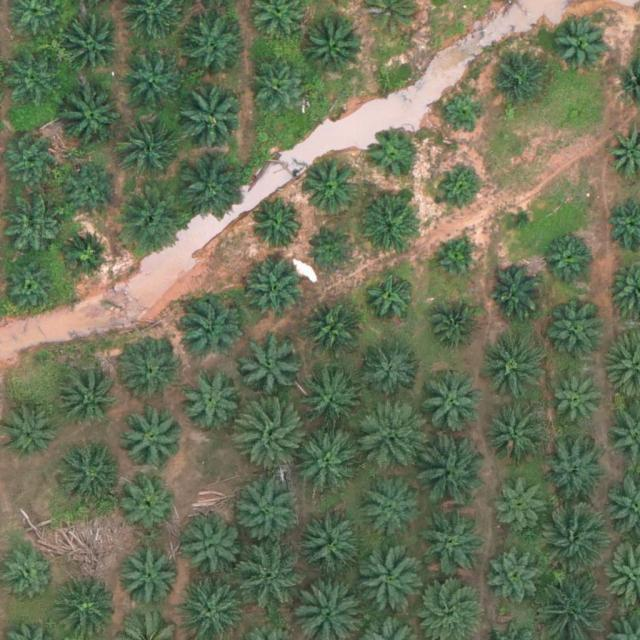Healthy: (177, 8, 248, 79), (55, 77, 125, 148), (113, 115, 183, 186), (172, 78, 243, 148), (538, 501, 608, 572), (416, 435, 486, 506), (354, 547, 425, 617), (355, 400, 425, 471), (232, 474, 302, 545), (236, 399, 306, 470), (117, 190, 187, 260), (175, 155, 245, 225), (236, 543, 306, 613), (357, 199, 420, 262), (420, 374, 483, 437), (240, 334, 303, 397), (119, 337, 182, 400), (295, 431, 358, 494), (120, 546, 183, 609), (122, 406, 185, 469), (57, 443, 120, 506), (58, 12, 120, 75), (300, 12, 362, 75), (547, 303, 609, 366), (483, 337, 545, 400), (242, 263, 305, 325), (179, 369, 242, 431), (177, 296, 239, 359), (57, 368, 119, 431), (544, 443, 606, 506), (487, 544, 550, 606), (485, 402, 547, 465), (419, 513, 482, 575), (359, 474, 421, 537), (302, 372, 364, 435), (298, 514, 360, 577), (180, 516, 242, 579), (120, 48, 182, 110), (490, 52, 552, 114), (360, 338, 422, 400), (60, 228, 115, 283), (4, 134, 59, 189), (5, 262, 60, 317), (63, 163, 118, 218), (253, 59, 308, 114), (427, 304, 482, 359), (549, 378, 604, 433), (542, 228, 597, 283), (490, 264, 545, 319), (250, 199, 305, 254), (495, 478, 550, 533), (122, 476, 177, 531), (4, 407, 59, 462), (7, 56, 61, 111), (552, 14, 606, 69), (368, 129, 422, 184), (305, 304, 359, 359), (302, 159, 356, 214)
Small: (432, 237, 479, 285), (436, 164, 483, 212), (443, 89, 490, 137), (310, 232, 357, 279), (366, 275, 413, 322), (506, 203, 537, 234)
